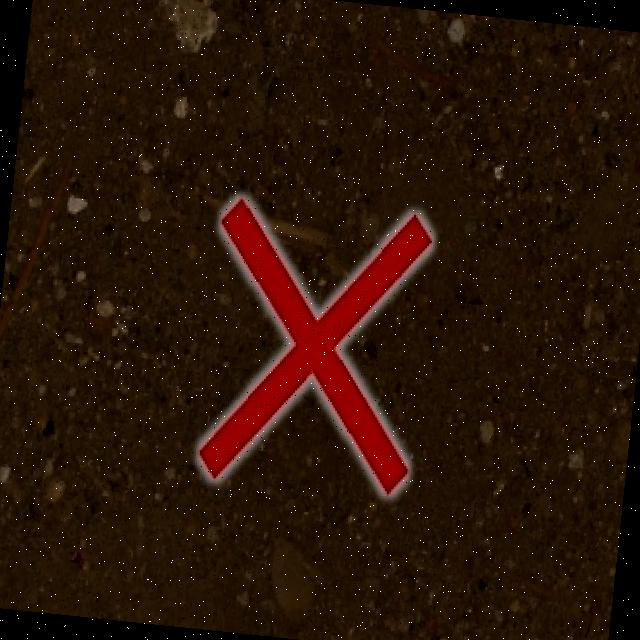x_marker: (195, 194, 432, 496)
